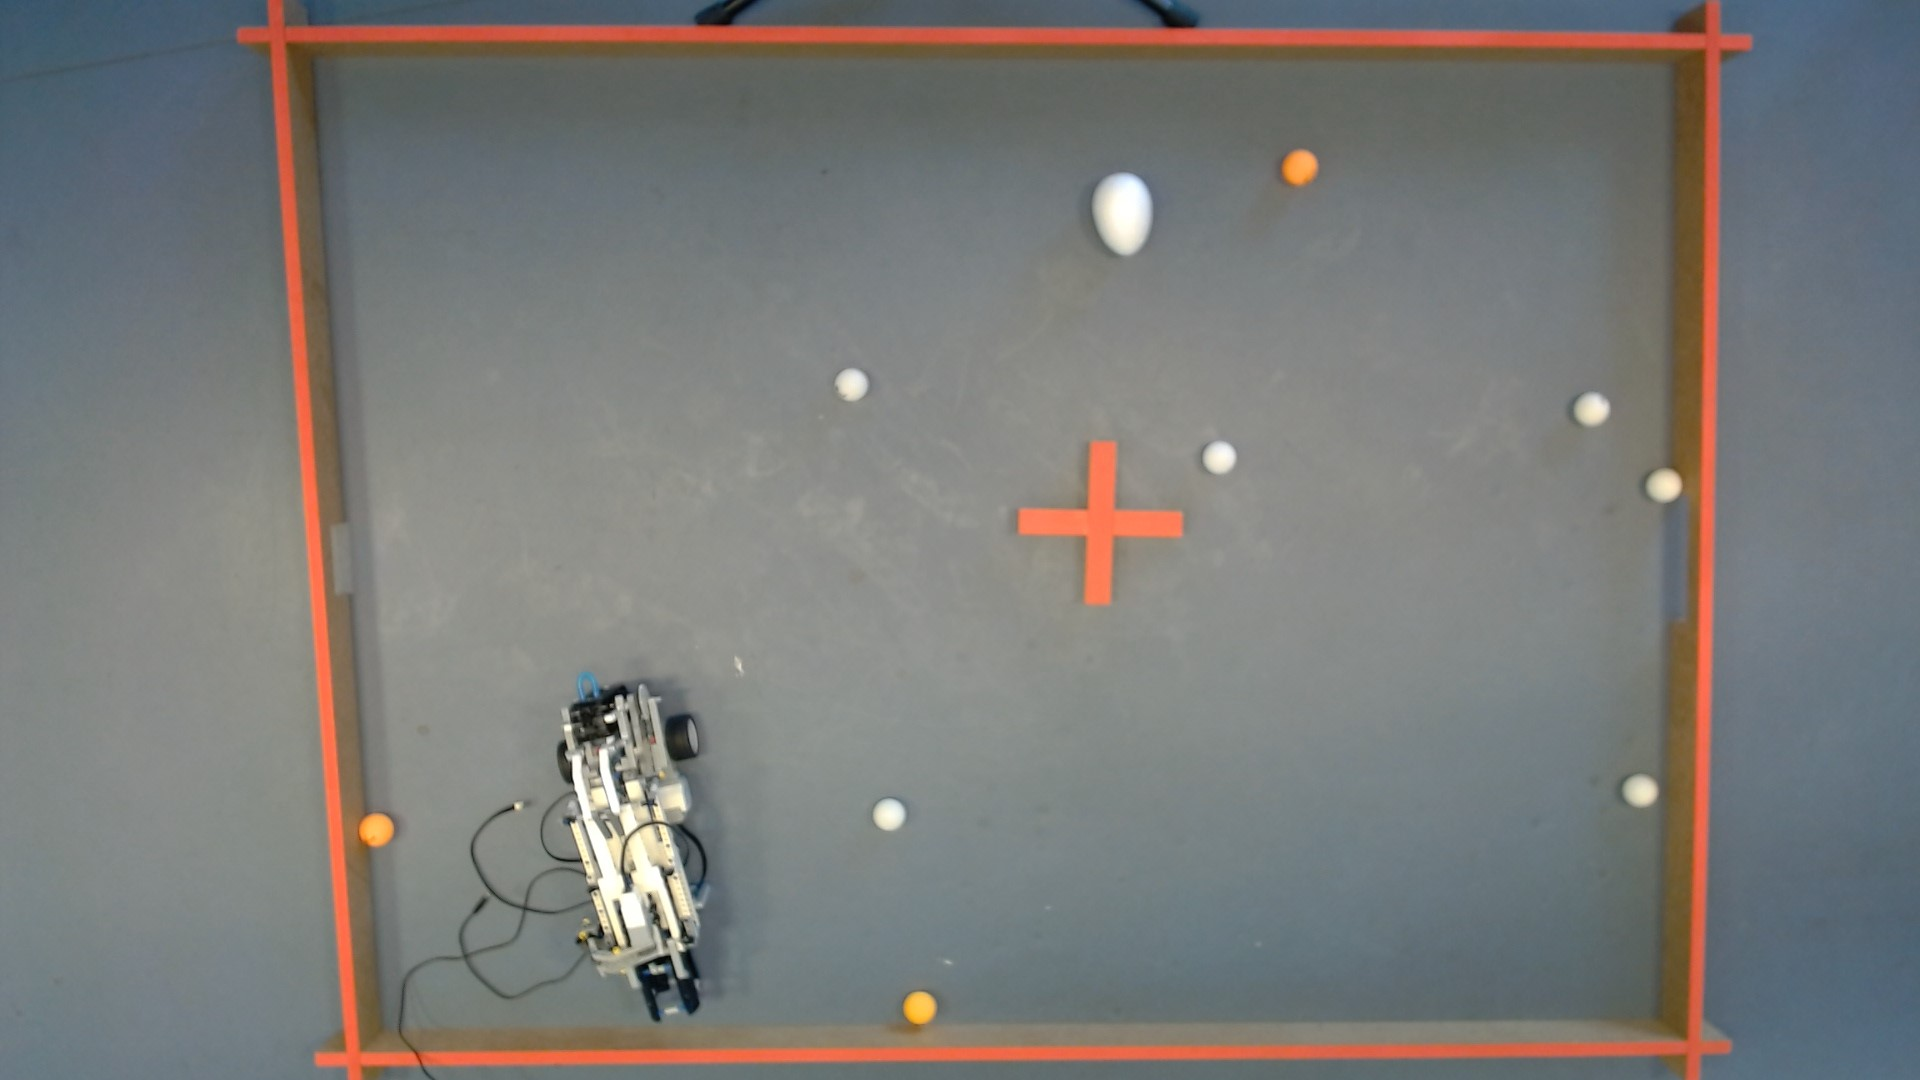Opingpong: (348, 803, 411, 861), (1271, 146, 1329, 193), (895, 978, 947, 1029)
Wpingpong: (860, 789, 916, 843), (1633, 462, 1689, 512), (1189, 433, 1244, 481), (1561, 386, 1615, 435), (824, 361, 880, 409), (1618, 766, 1665, 818)
arena: (199, 11, 411, 1080), (223, 1019, 1749, 1080), (102, 5, 1776, 58), (1668, 5, 1749, 1080)
car: (484, 655, 764, 1021)
cross: (1014, 425, 1197, 629)
egg: (1073, 164, 1175, 260)
